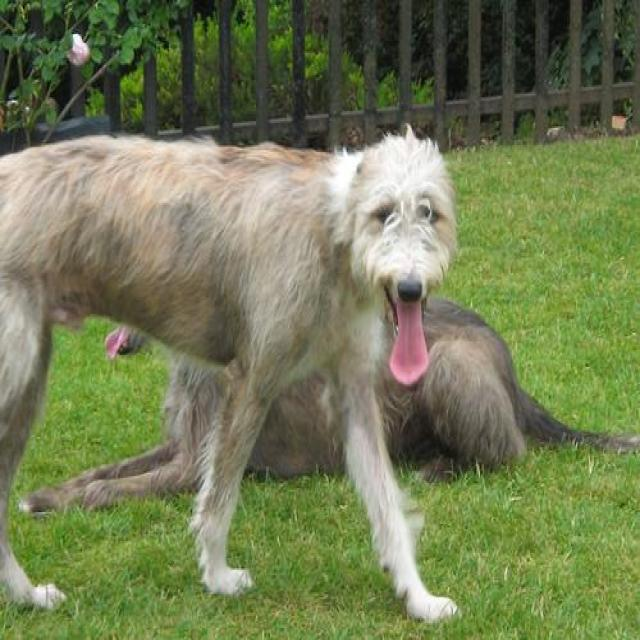irish_wolfhound: (2, 133, 460, 621), (14, 289, 636, 517)
